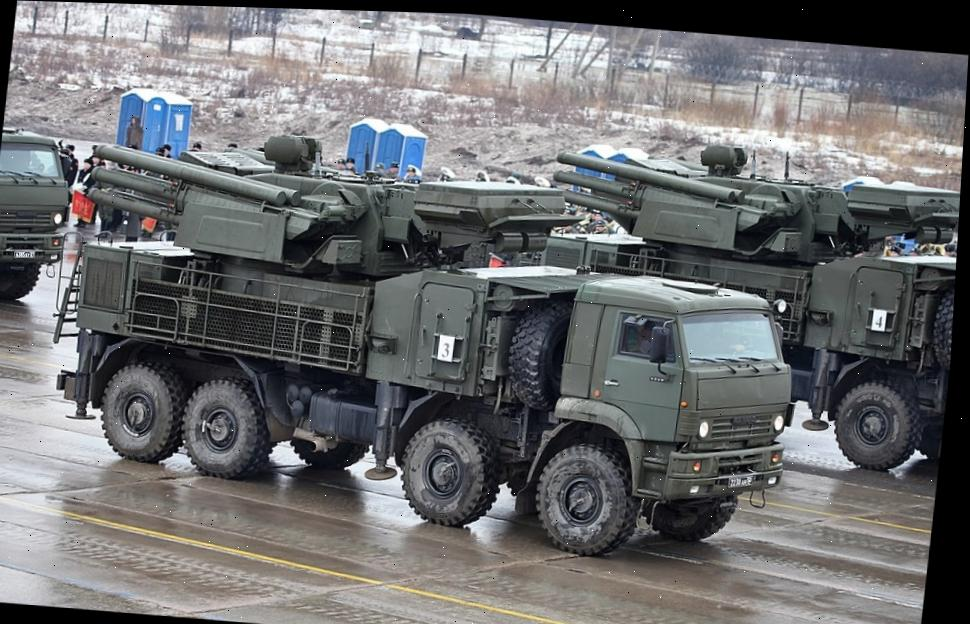armored_car: (40, 141, 819, 584)
